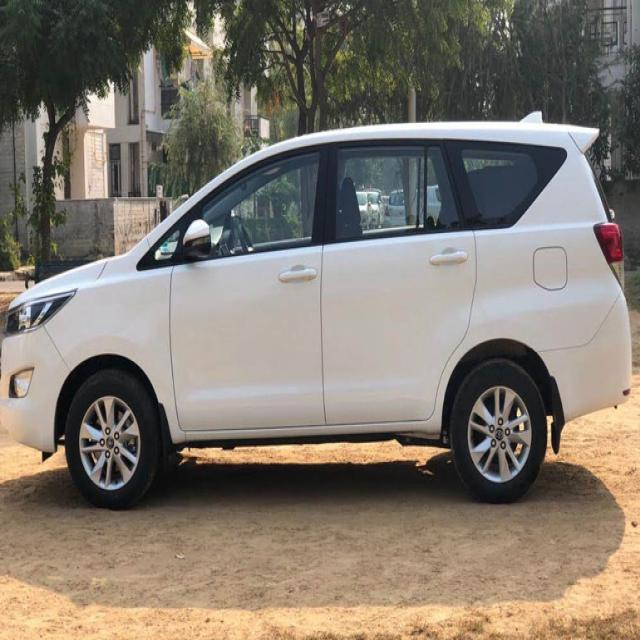light_vehicle: (0, 114, 634, 512)
